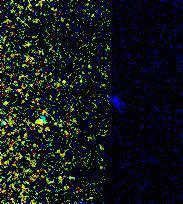star: (26, 110, 56, 140)
